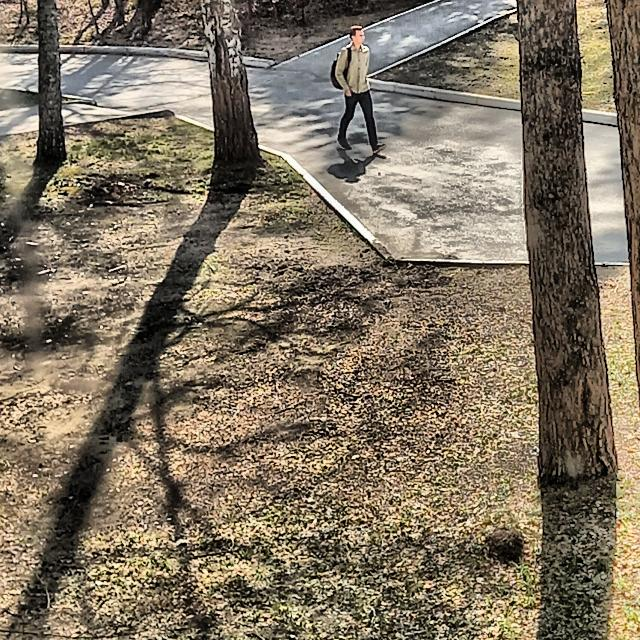Human: (311, 12, 394, 178)
